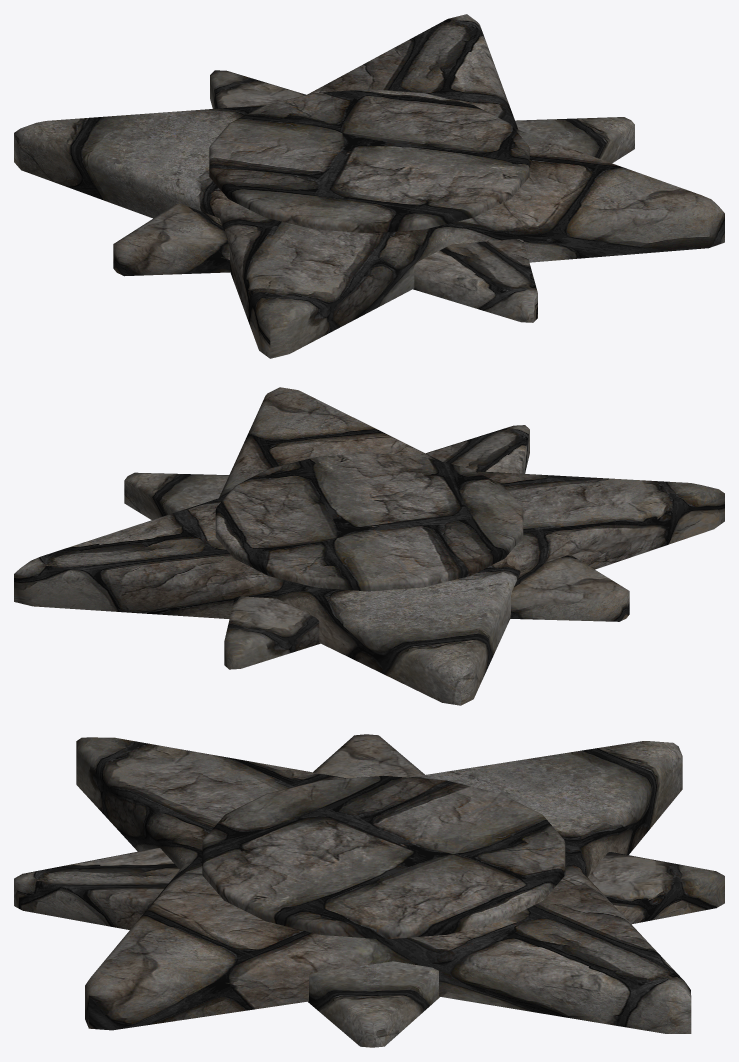
File: TeleportSocle.FBX
3 views of the same model, one above another, from view 1: azimuth 30°, elevation 25°; view 2: azimuth 150°, elevation 25°; view 3: azimuth 270°, elevation 25° (orthographic). The views are drawn at different scales.
Visible parts, largest first — view 1: TombIconCenter; view 2: TombIconCenter; view 3: TombIconCenter.
Boxes of the visible parts, bbox=[...] form: TombIconCenter: bbox=[14, 14, 724, 358]; TombIconCenter: bbox=[14, 387, 724, 705]; TombIconCenter: bbox=[14, 734, 724, 1047].
Size of the model in its own units: 352 by 30.67 by 369.
